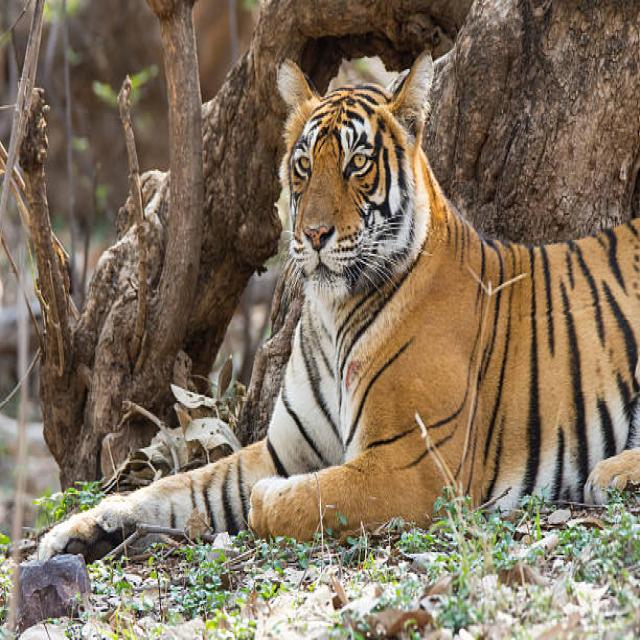not_pig: (36, 48, 639, 564)
